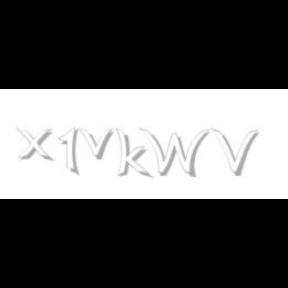1: (58, 128, 80, 176)
V: (211, 128, 259, 176)
W: (138, 128, 210, 178)
k: (115, 128, 153, 180)
v: (77, 128, 117, 160)
x: (16, 128, 58, 162)
